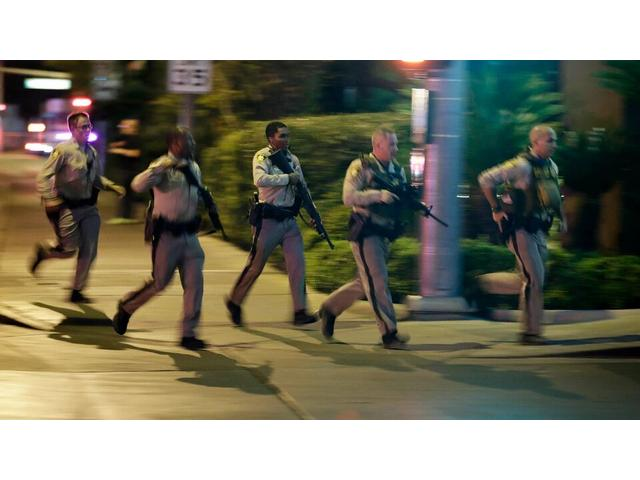rifle: (264, 150, 335, 250), (359, 166, 448, 231), (171, 159, 227, 244)
